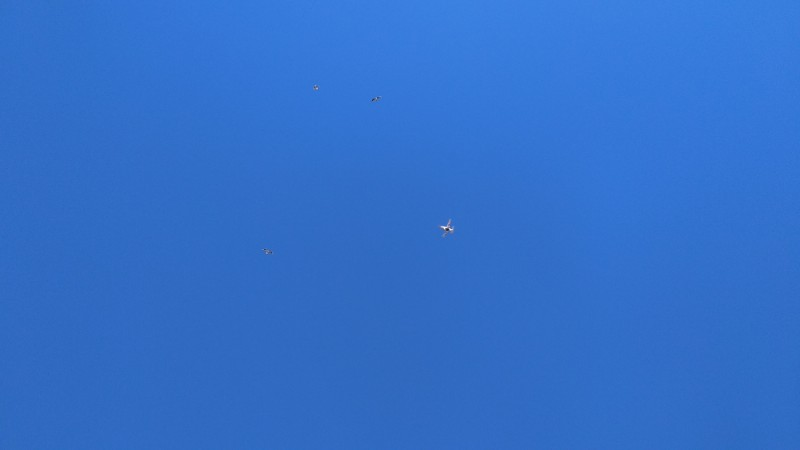drone: (438, 219, 457, 239)
